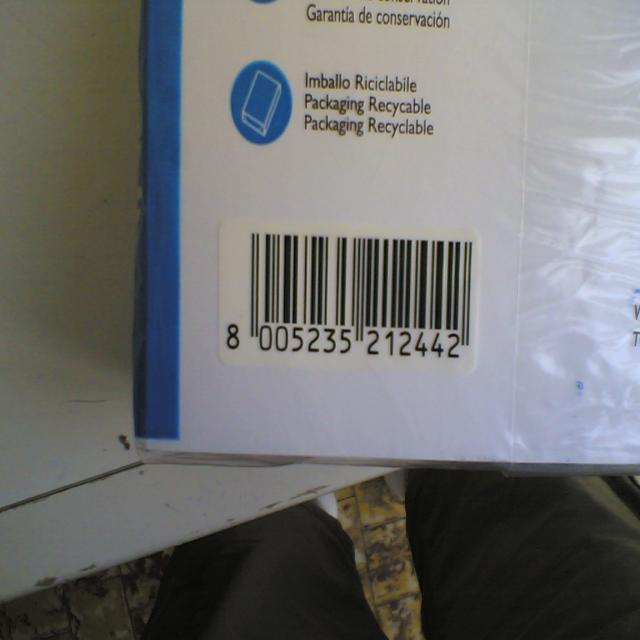barcode: (219, 220, 479, 372)
